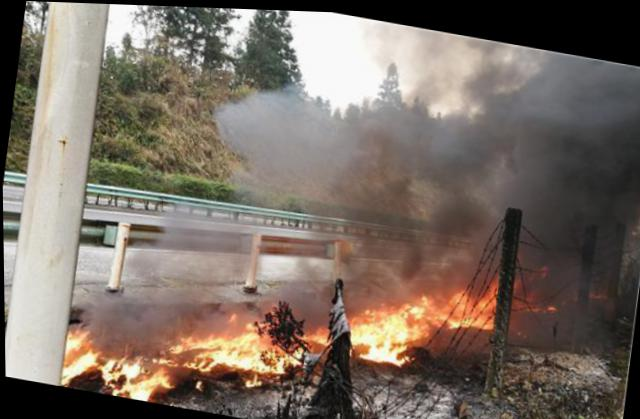fire: (362, 297, 409, 360), (59, 325, 105, 380), (217, 342, 295, 372), (392, 301, 431, 343), (476, 273, 501, 326), (448, 285, 479, 327), (418, 291, 454, 320), (229, 319, 265, 348), (127, 374, 154, 400), (189, 329, 223, 349), (350, 306, 369, 341), (195, 345, 219, 369), (121, 353, 142, 378), (151, 365, 173, 384), (100, 356, 117, 377), (313, 323, 331, 342), (246, 371, 261, 385)
